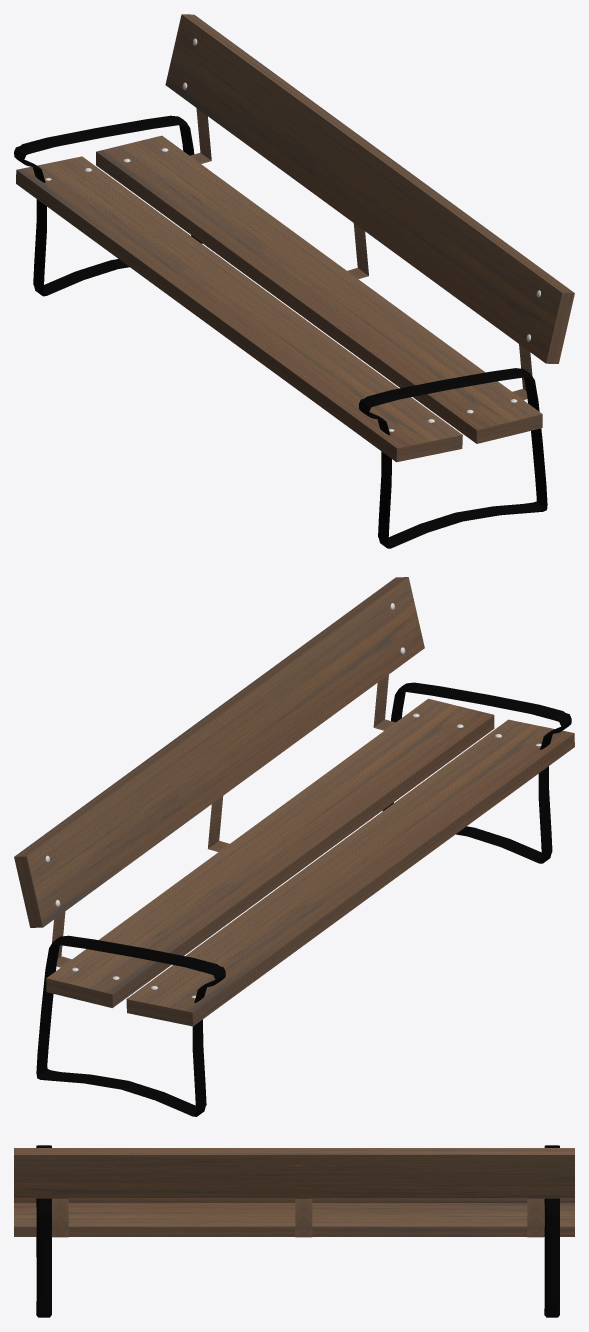
3 views of the same model, one above another, from view 1: azimuth 30°, elevation 25°; view 2: azimuth 150°, elevation 25°; view 3: azimuth 270°, elevation 25° (orthographic). The views are drawn at different scales.
Visible parts, largest first — view 1: Banco.016; view 2: Banco.016; view 3: Banco.016.
Boxes of the visible parts, bbox=[...] form: Banco.016: bbox=[14, 14, 574, 548]; Banco.016: bbox=[14, 577, 574, 1116]; Banco.016: bbox=[14, 1145, 574, 1317].
Bounding box in the file's own units: 0.5824 × 2 × 0.6682.
3 materials, 1 textured.
